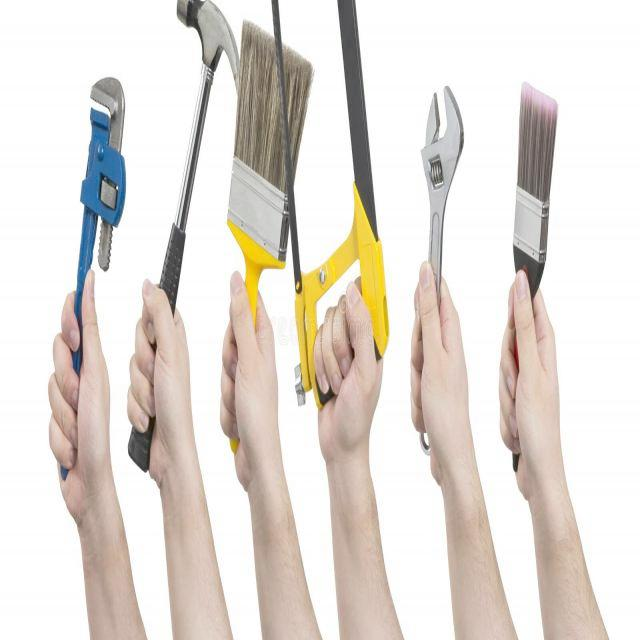hammer: (117, 0, 250, 477)
